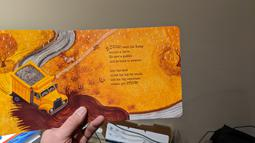text block: (105, 43, 147, 89)
